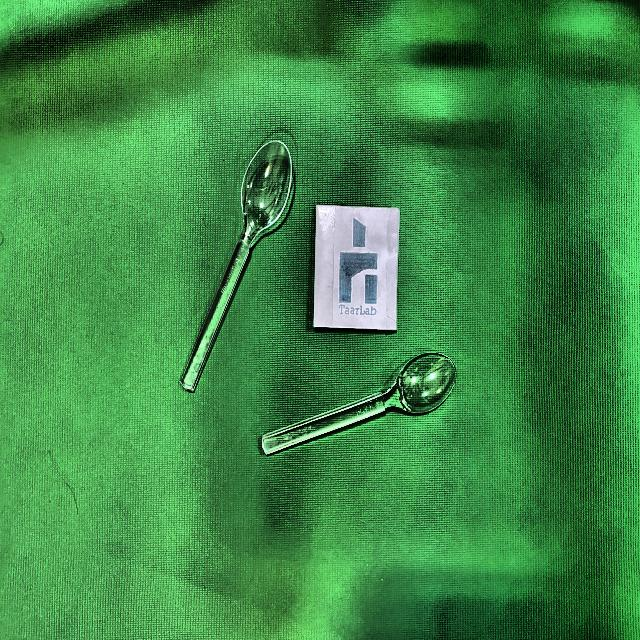plastic utensil: (183, 142, 294, 394), (263, 355, 459, 457)
